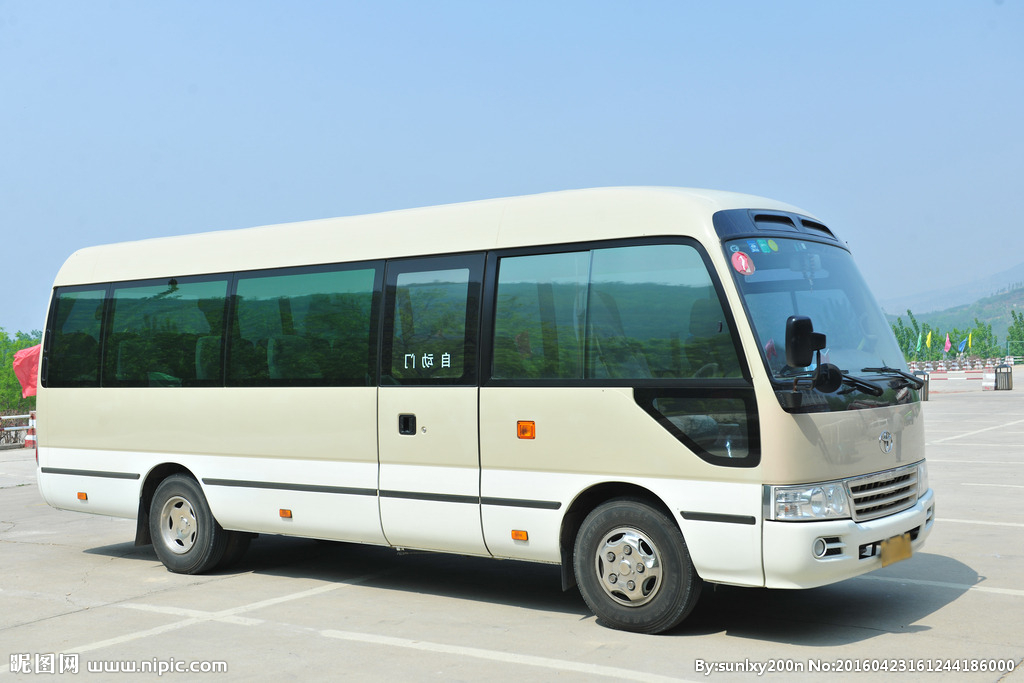car: (8, 186, 946, 665)
